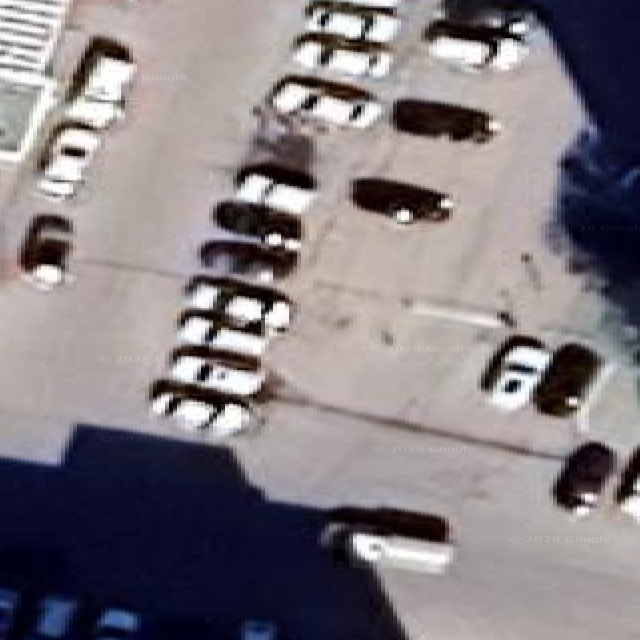car: (320, 507, 454, 572), (65, 36, 135, 129), (185, 275, 293, 332), (266, 75, 382, 128), (150, 380, 259, 436), (480, 335, 551, 410), (424, 20, 527, 70), (533, 343, 601, 416), (170, 345, 266, 396), (37, 123, 100, 200), (351, 177, 452, 224), (391, 99, 501, 142), (213, 200, 302, 252), (553, 442, 615, 515), (293, 33, 391, 77), (177, 309, 268, 356), (235, 162, 316, 214), (200, 238, 297, 281), (19, 214, 72, 290), (305, 0, 399, 42), (441, 0, 536, 35), (24, 595, 78, 639), (615, 448, 639, 522), (92, 608, 140, 639), (0, 587, 20, 639), (239, 619, 277, 639), (352, 0, 401, 9)
